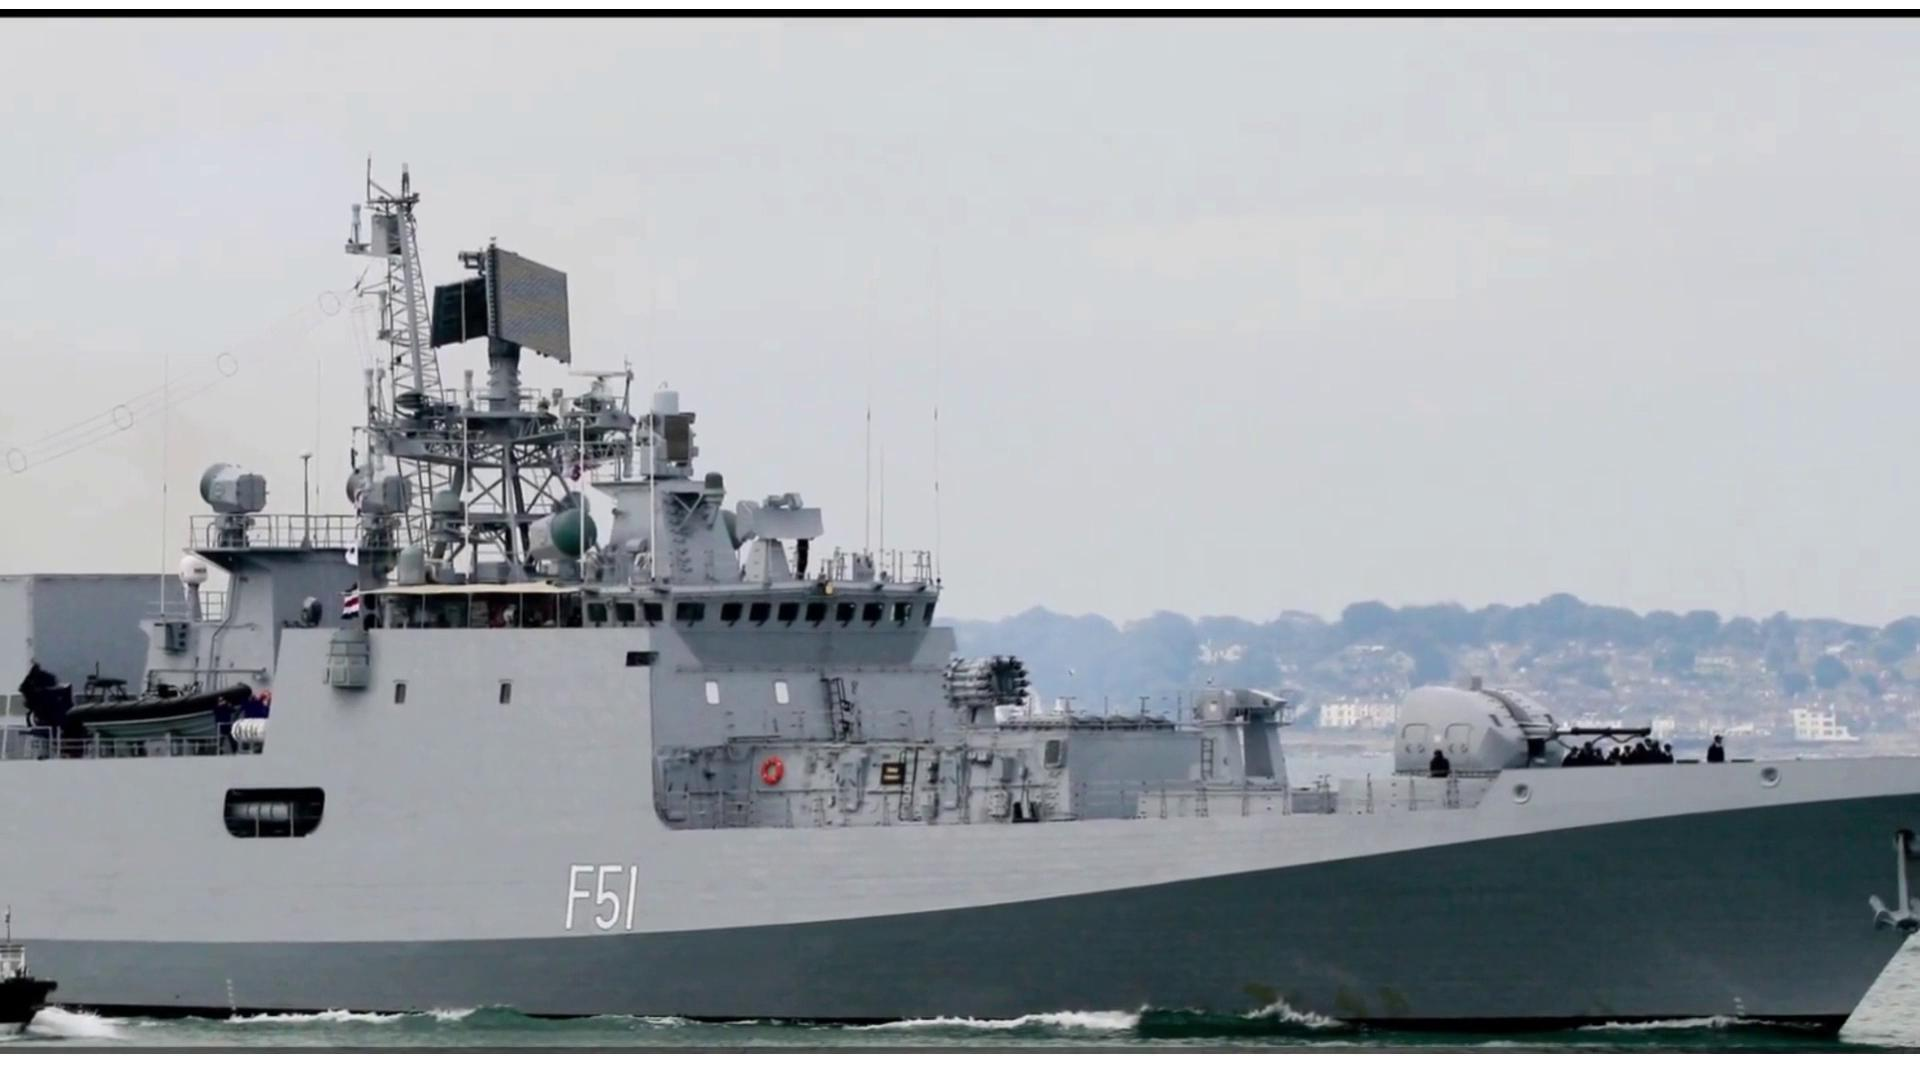OCR: (553, 854, 655, 944)
